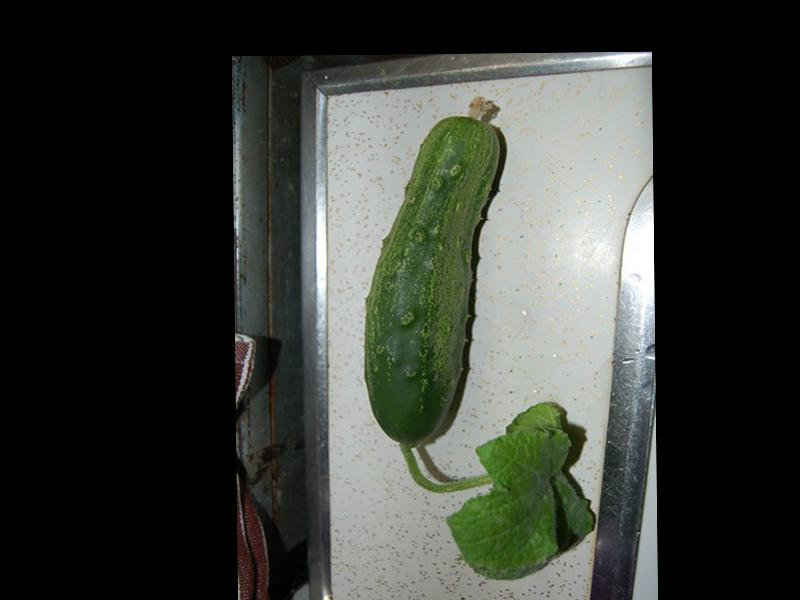Cucumber: (360, 96, 506, 449)
